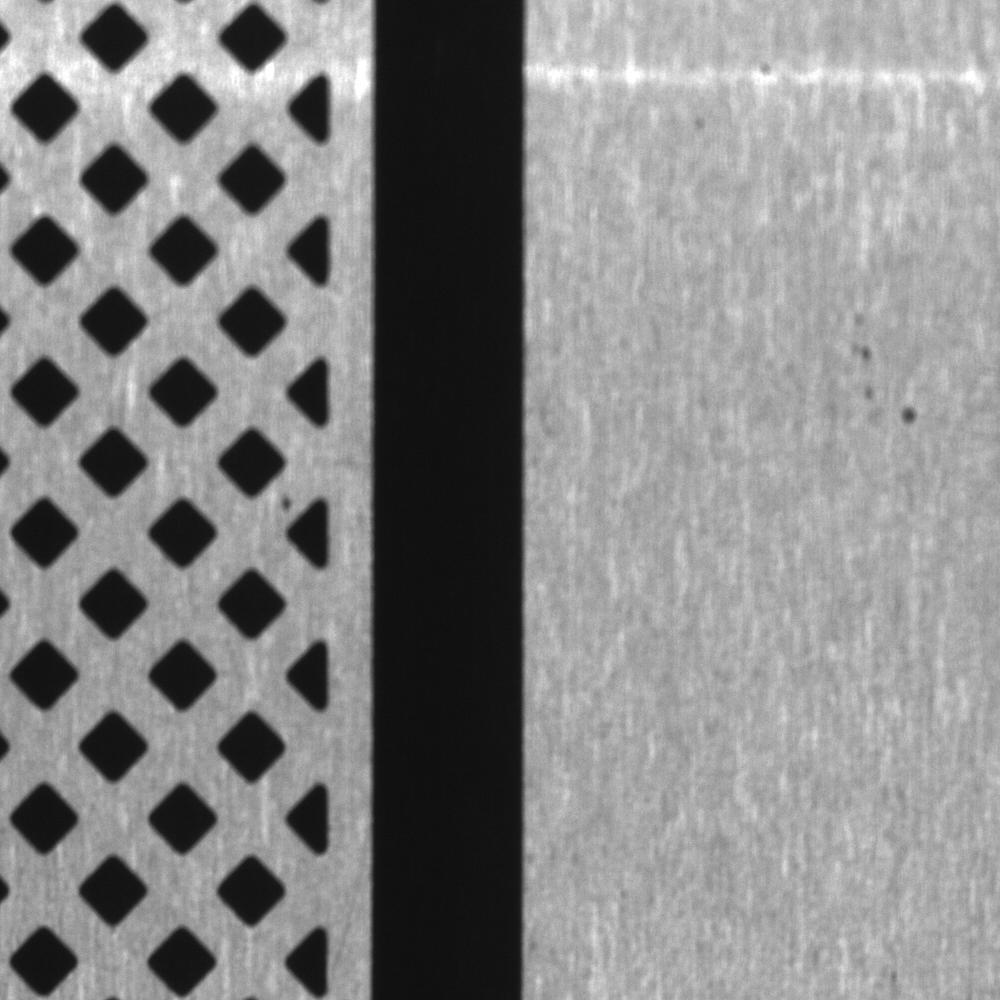Etching: (837, 293, 880, 407)
Pinhole: (883, 385, 946, 446)
